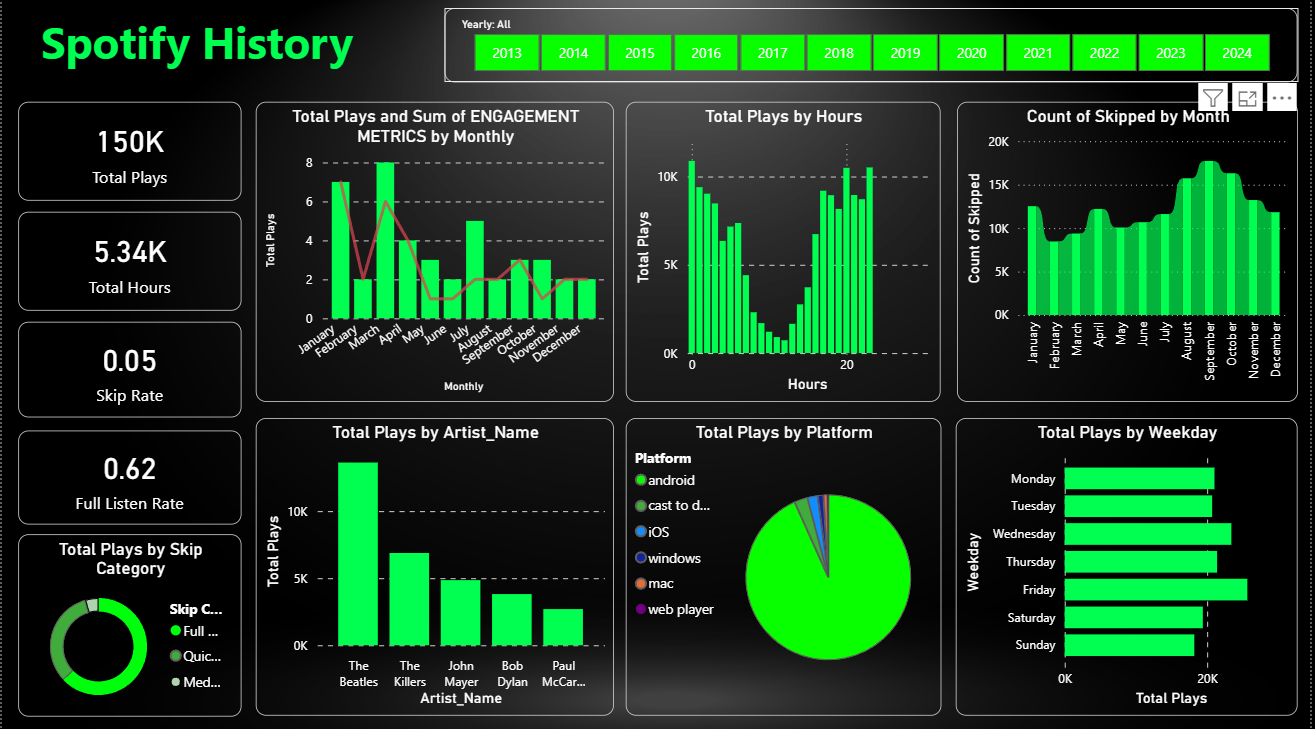

The dashboard page shown, as its layout file describes it:
{"tool":"powerbi","page":{"name":"Page 1","canvas":[1280,720],"ordinal":0},"visuals":[{"type":"lineStackedColumnComboChart","fields":{"Category":["spotify_history (3).Time Hierarchy.Yearly","spotify_history (3).Time Hierarchy.Monthly"],"Y":["spotify_history (3).Total Plays"],"Y2":["Sum(spotify_history (3).ENGAGEMENT METRICS)"]},"box":[247.7,106.2,350.8,293.8],"z":0},{"type":"textbox","box":[15.1,13.7,363.6,74.1],"z":1000},{"type":"ribbonChart","fields":{"Category":["spotify_history (3).DATE.Variation.Date Hierarchy.Month"],"Y":["CountNonNull(spotify_history (3).Skipped)"]},"box":[933.8,106.2,333.8,293.8],"z":2000},{"type":"card","fields":{"Values":["spotify_history (3).Total Plays"]},"box":[15.4,106.2,218.5,96.9],"z":3000},{"type":"card","fields":{"Values":["spotify_history (3).Total Hours"]},"box":[15.4,213.8,218.5,96.9],"z":4000},{"type":"card","fields":{"Values":["spotify_history (3).Skip Rate"]},"box":[15.4,321.5,218.5,93.8],"z":5000},{"type":"card","fields":{"Values":["spotify_history (3).Full Listen Rate"]},"box":[15.4,427.7,218.5,92.3],"z":6000},{"type":"columnChart","fields":{"Category":["spotify_history (3).Hours"],"Y":["spotify_history (3).Total Plays"]},"box":[610.8,106.2,307.7,293.8],"z":7000},{"type":"barChart","fields":{"Y":["spotify_history (3).Total Plays"],"Category":["spotify_history (3).Weekday"]},"box":[933.3,415.9,334.8,291.3],"z":8000},{"type":"donutChart","fields":{"Category":["spotify_history (3).Skip Category"],"Y":["spotify_history (3).Total Plays"]},"box":[15.4,529.2,218.5,178.5],"z":9000},{"type":"clusteredColumnChart","fields":{"Category":["spotify_history (3).Artist_Name"],"Y":["spotify_history (3).Total Plays"]},"box":[247.8,415.9,350.7,291.3],"z":10000},{"type":"pieChart","fields":{"Category":["spotify_history (3).Platform"],"Y":["spotify_history (3).Total Plays"]},"box":[610.1,415.9,308.7,291.3],"z":11000},{"type":"slicer","fields":{"Values":["spotify_history (3).Yearly"]},"box":[433.3,14.5,834.8,72.5],"z":12000}]}

Visuals, with their boxes in screenshot pixels (x1, y1, x2, y2), scaled from the page's 1280x720 canvas onto the 1315x729 screenshot:
lineStackedColumnComboChart - spotify_history (3).Time Hierarchy.Yearly x spotify_history (3).Time Hierarchy.Monthly: bbox=(254, 108, 615, 405)
textbox: bbox=(16, 14, 389, 89)
ribbonChart - spotify_history (3).DATE.Variation.Date Hierarchy.Month x CountNonNull(spotify_history (3).Skipped): bbox=(959, 108, 1302, 405)
card - spotify_history (3).Total Plays: bbox=(16, 108, 240, 206)
card - spotify_history (3).Total Hours: bbox=(16, 216, 240, 315)
card - spotify_history (3).Skip Rate: bbox=(16, 326, 240, 420)
card - spotify_history (3).Full Listen Rate: bbox=(16, 433, 240, 526)
columnChart - spotify_history (3).Hours x spotify_history (3).Total Plays: bbox=(628, 108, 944, 405)
barChart - spotify_history (3).Total Plays x spotify_history (3).Weekday: bbox=(959, 421, 1303, 716)
donutChart - spotify_history (3).Skip Category x spotify_history (3).Total Plays: bbox=(16, 536, 240, 717)
clusteredColumnChart - spotify_history (3).Artist_Name x spotify_history (3).Total Plays: bbox=(255, 421, 615, 716)
pieChart - spotify_history (3).Platform x spotify_history (3).Total Plays: bbox=(627, 421, 944, 716)
slicer - spotify_history (3).Yearly: bbox=(445, 15, 1303, 88)
